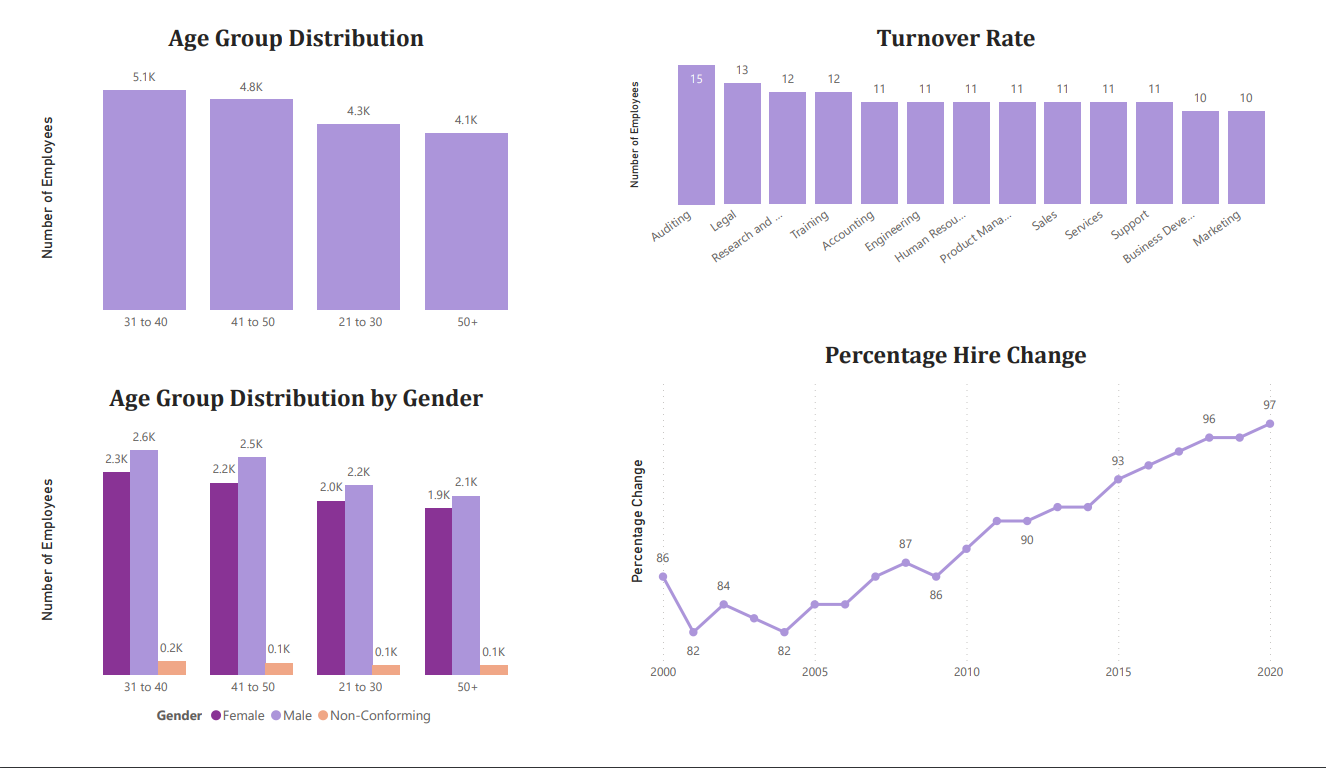

The page's visual inventory and layout, read from the dashboard file:
{"tool":"powerbi","page":{"name":"Page 2","canvas":[1280,720],"ordinal":1},"visuals":[{"type":"clusteredColumnChart","title":"Age Group Distribution","fields":{"Category":["age group distribution.Column1"],"Y":["Sum(age group distribution.Column2)"]},"box":[9.9,0,524.8,317],"z":0},{"type":"clusteredColumnChart","title":"Age Group Distribution by Gender","fields":{"Y":["Sum(age group distribution by gender.Column3)"],"Category":["age group distribution by gender.Column1"],"Series":["age group distribution by gender.Column2"]},"box":[9.8,360.5,524.8,350.7],"z":1},{"type":"columnChart","title":"Turnover Rate","fields":{"Y":["Sum(turnover rate.Column4)"],"Category":["turnover rate.Column1"]},"box":[600,0,664.5,255.2],"z":2},{"type":"lineChart","title":"Percentage Hire Change","fields":{"Category":["count of employee hires changed over time - Perent hire change.Column1"],"Y":["Sum(count of employee hires changed over time - Perent hire change.Column5)"]},"box":[600,317,664.5,350.1],"z":3}]}

Visuals, with their boxes in screenshot pixels (x1, y1, x2, y2), scaled from the page's 1280x720 canvas onto the 1326x768 screenshot:
"Age Group Distribution" clusteredColumnChart: {"x1": 10, "y1": 0, "x2": 554, "y2": 338}
"Age Group Distribution by Gender" clusteredColumnChart: {"x1": 10, "y1": 385, "x2": 554, "y2": 759}
"Turnover Rate" columnChart: {"x1": 622, "y1": 0, "x2": 1310, "y2": 272}
"Percentage Hire Change" lineChart: {"x1": 622, "y1": 338, "x2": 1310, "y2": 712}
